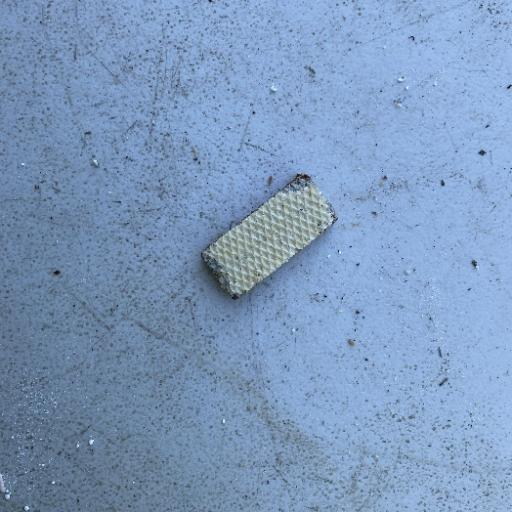Waste: (199, 172, 337, 301)
